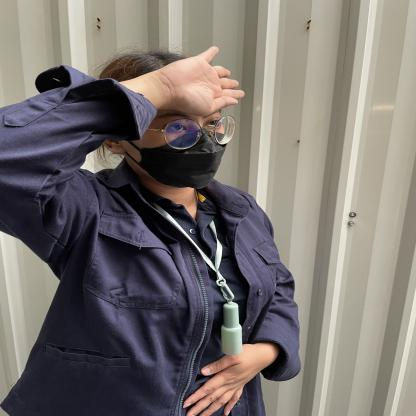Sick: (54, 37, 291, 132)
